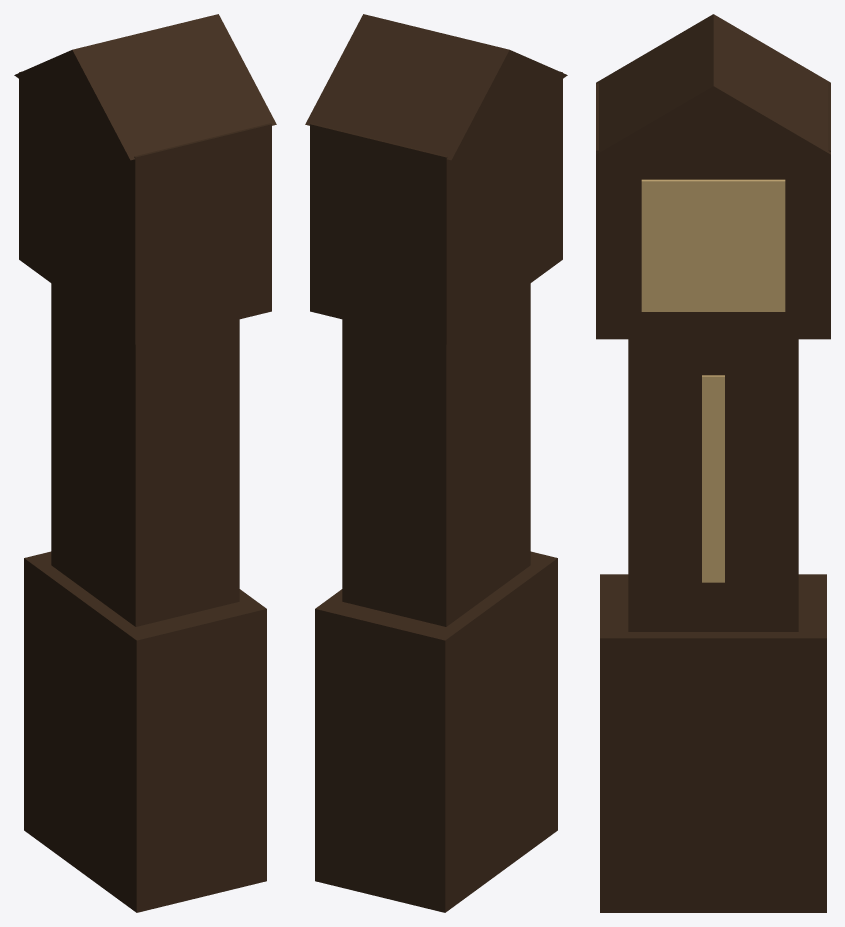
File: SM_Mob_Saat.fbx
3 renders of one model, left to right at view 1: azimuth 30°, elevation 25°; view 2: azimuth 150°, elevation 25°; view 3: azimuth 270°, elevation 25°, orthographic.
Visible parts, largest first — view 1: Mob_Saat; view 2: Mob_Saat; view 3: Mob_Saat.
Part boxes in pixels (x1,y1,x2,y2): Mob_Saat: (14, 14, 276, 912); Mob_Saat: (305, 14, 567, 912); Mob_Saat: (596, 14, 830, 912).
Size of the model in its own units: 45 by 242 by 62.
